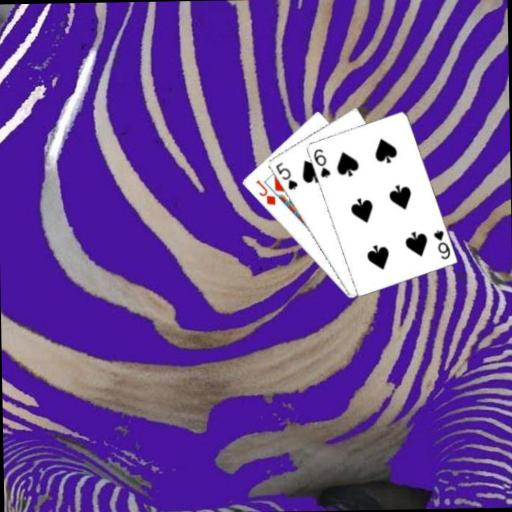5S: (272, 160, 299, 192)
6S: (430, 227, 452, 261), (311, 146, 332, 180)
JD: (253, 177, 278, 207)
